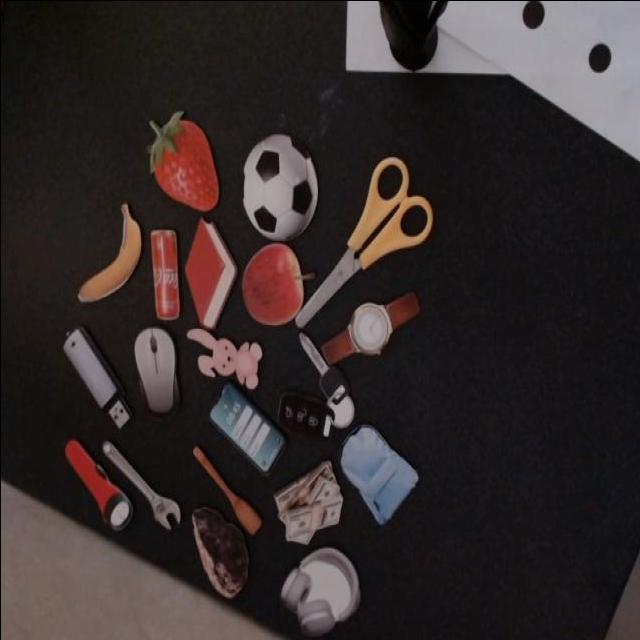Other Objects: (295, 156, 433, 328), (274, 332, 368, 458), (275, 529, 370, 640), (332, 410, 420, 527), (77, 202, 154, 324), (60, 425, 137, 538), (59, 321, 136, 433), (242, 134, 319, 242), (316, 291, 424, 366), (271, 458, 350, 553), (209, 381, 287, 475), (102, 440, 181, 531), (192, 445, 262, 536), (241, 241, 315, 327), (191, 505, 249, 599), (186, 327, 263, 391), (131, 324, 180, 415), (150, 229, 180, 320)
